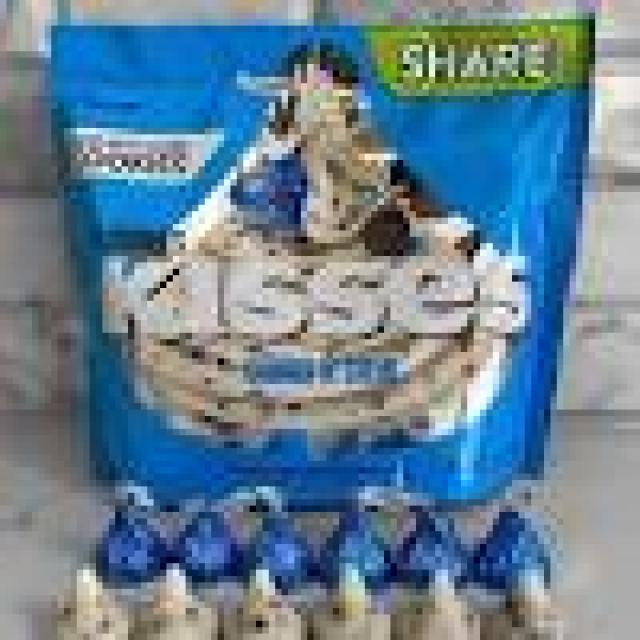kisses: (40, 565, 135, 640), (224, 561, 309, 640), (317, 557, 396, 640), (138, 561, 219, 640), (409, 569, 480, 640), (492, 569, 563, 640)
